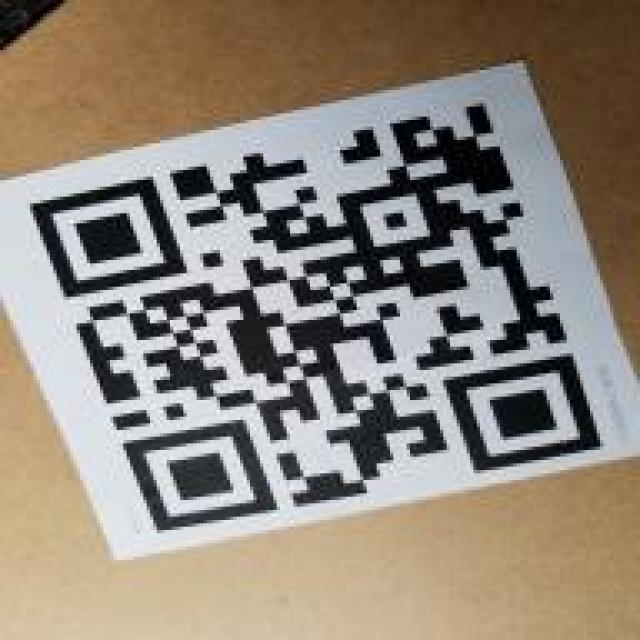QR_CODE: (15, 92, 620, 540)
